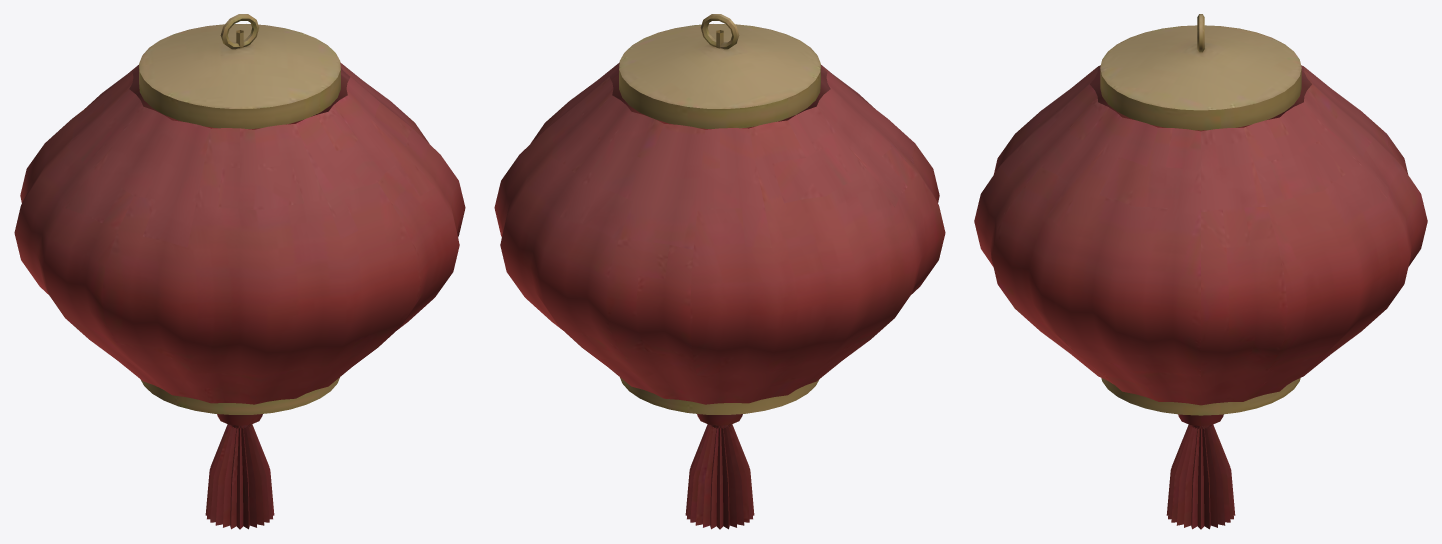
File: lantern-v2.glb
3 renders of one model, left to right at view 1: azimuth 30°, elevation 25°; view 2: azimuth 150°, elevation 25°; view 3: azimuth 270°, elevation 25°, orthographic.
Parts seen in each view (by area): view 1: lantern; view 2: lantern; view 3: lantern.
Boxes of the visible parts, bbox=[...] form: lantern: bbox=[14, 14, 465, 529]; lantern: bbox=[494, 14, 945, 529]; lantern: bbox=[974, 14, 1427, 529].
Size of the model in its own units: 0.45 by 0.5465 by 0.45.
Materials: 2 (2 with a texture image).
